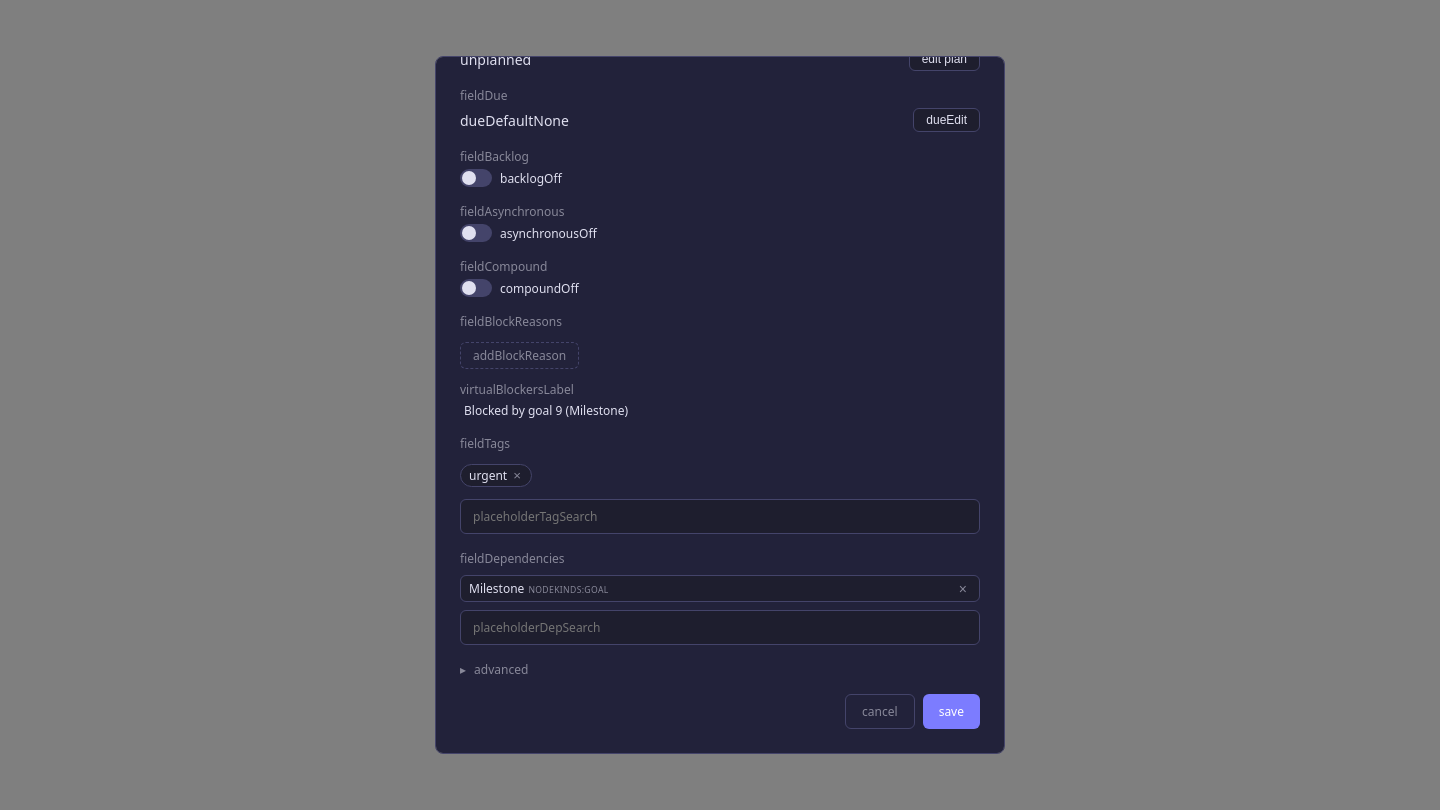
Test case: TaskEditorModal — virtual blockers from dependencies › drops the virtual block reason when its dependency is removed
This screenshot has width=1440, height=810.
(page scrolled)
Expected: the text "Blocked by goal 9 (Milestone)" is shown, [464,402,628,419]
Step 1. Click the button named "removeDependency" → (963, 588), box [955,582,971,596]
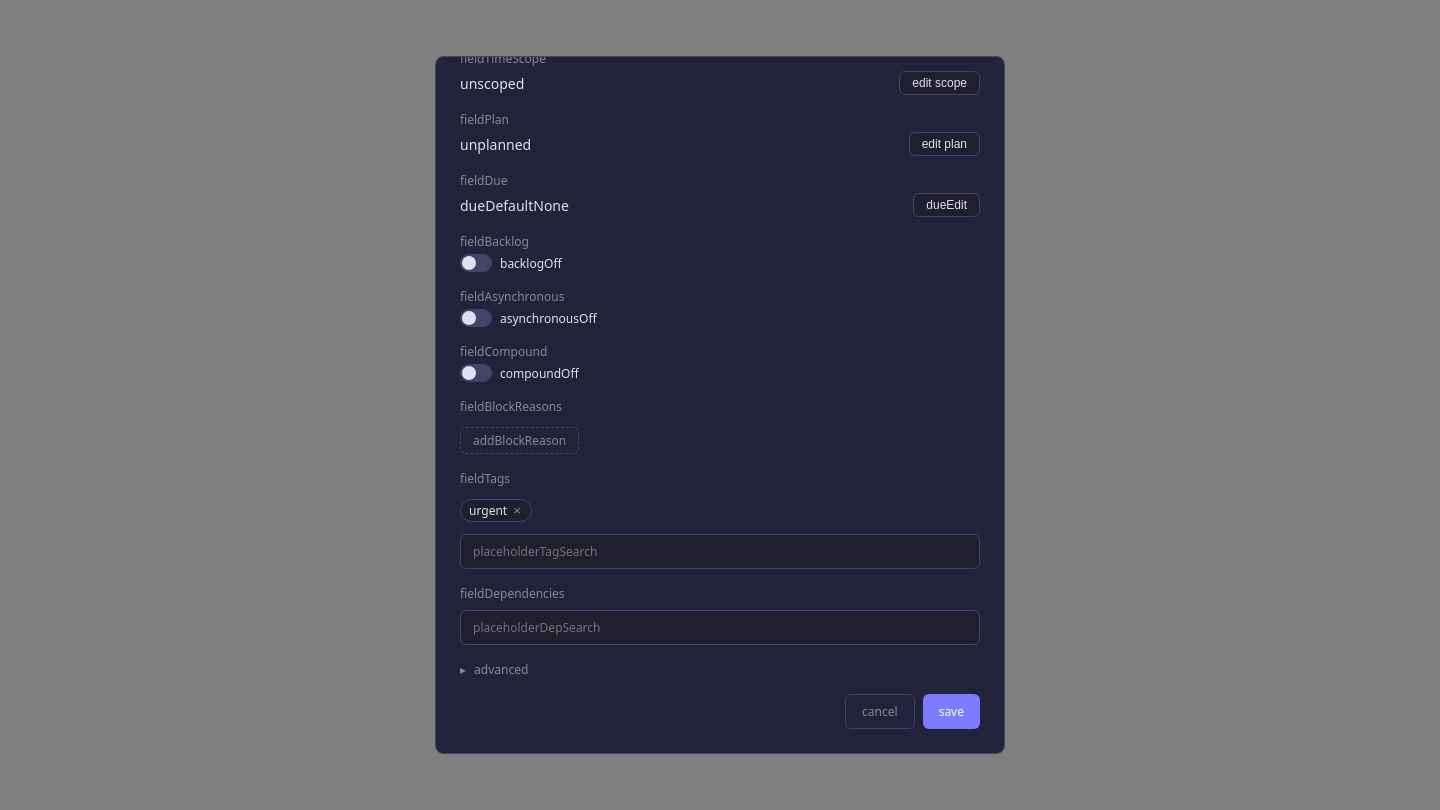
Expected: the text "Blocked by goal 9 (Milestone)" is gone
